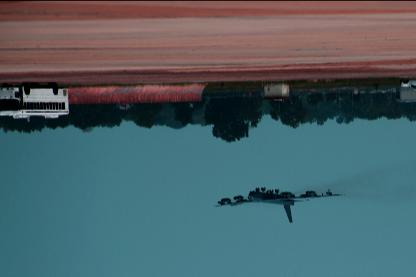B2: (214, 188, 346, 222)
